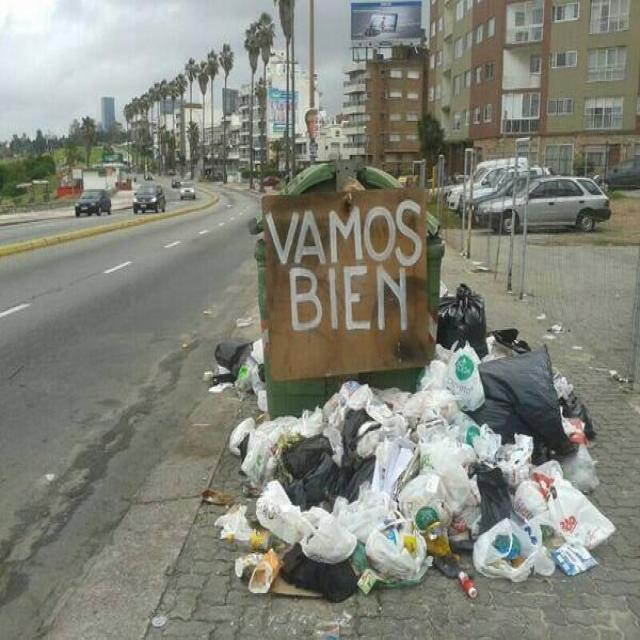garbage: (219, 342, 615, 613), (430, 276, 492, 350)
